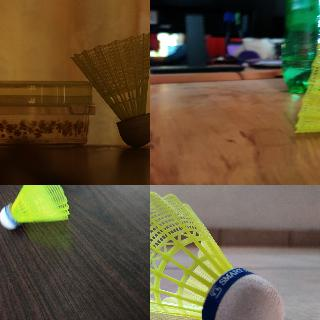shuttlecock: (150, 191, 283, 319), (70, 32, 149, 146), (0, 185, 70, 230), (295, 15, 319, 134)
